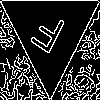F: (25, 8, 67, 64)
